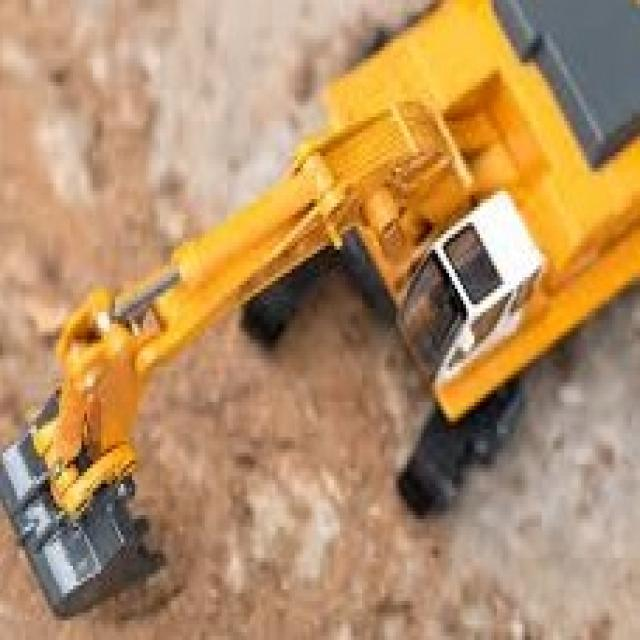excavator: (240, 0, 639, 528)
